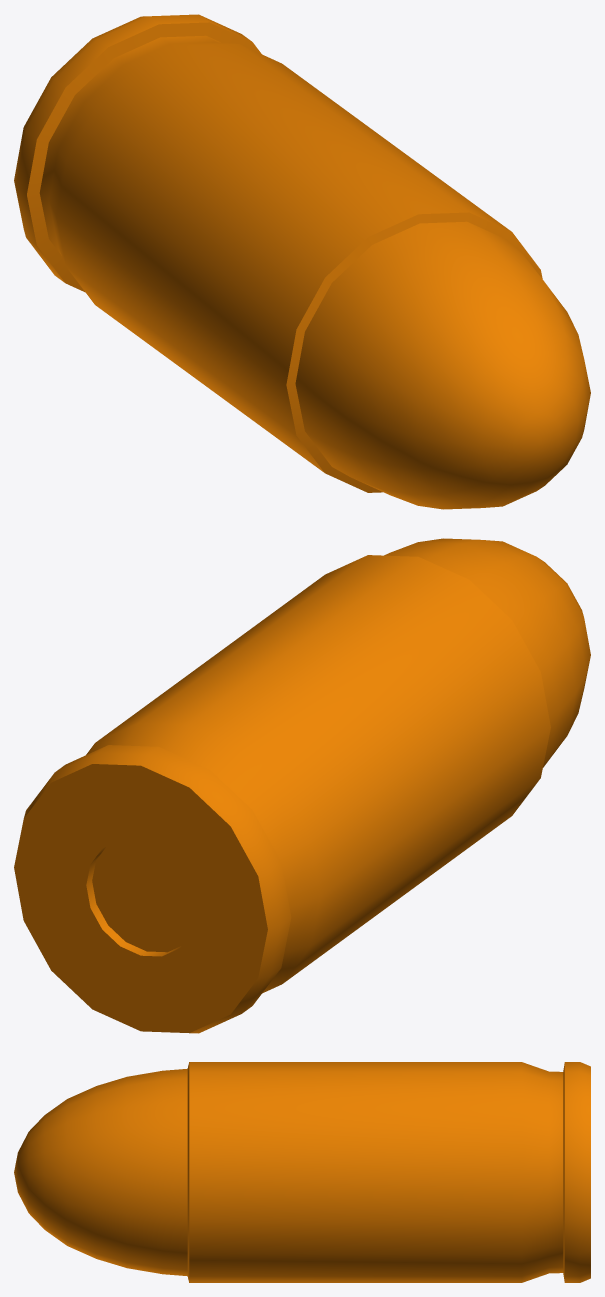
The model's file is bullet-9mm-whole.fbx.
3 views of the same model, one above another, from view 1: azimuth 30°, elevation 25°; view 2: azimuth 150°, elevation 25°; view 3: azimuth 270°, elevation 25° (orthographic). The views are drawn at different scales.
Visible parts, largest first — view 1: Bullet 9mm Whole; view 2: Bullet 9mm Whole; view 3: Bullet 9mm Whole.
Boxes of the visible parts, x1,y1,x2,y2 form: Bullet 9mm Whole: (14, 14, 590, 509); Bullet 9mm Whole: (14, 538, 590, 1033); Bullet 9mm Whole: (14, 1062, 590, 1282).
Size of the model in its own units: 0.95 by 0.95 by 2.48.
